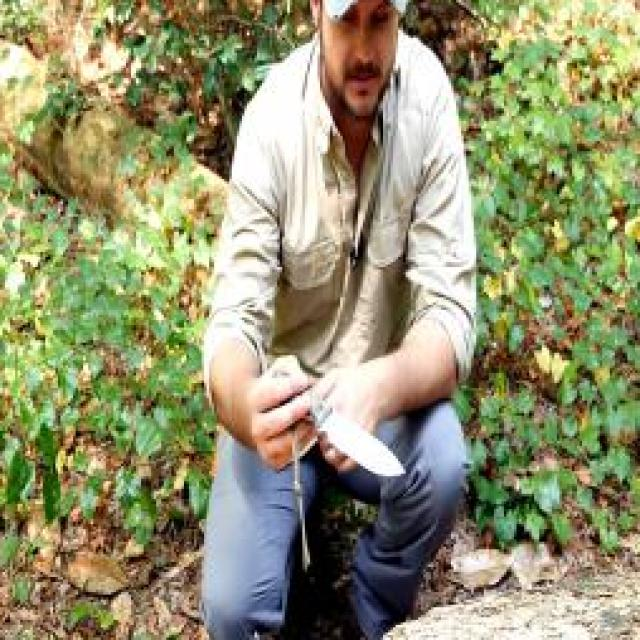knife: (259, 350, 412, 483)
